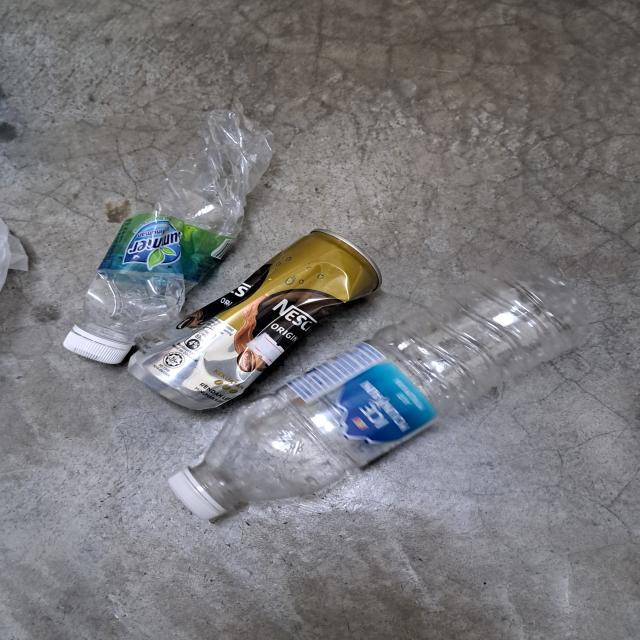can: (124, 228, 380, 413)
plastic bottle: (192, 254, 594, 508), (83, 109, 278, 343)
plastic bottle cap: (170, 470, 224, 522), (61, 329, 130, 368)
